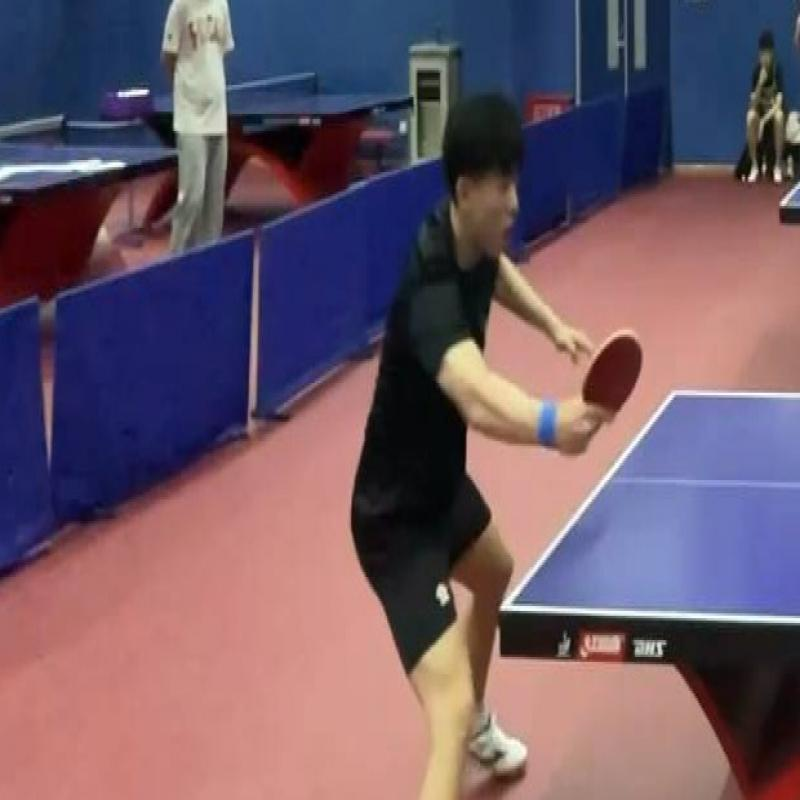bats: (577, 325, 648, 453)
